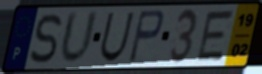3: (168, 6, 200, 66)
E: (193, 8, 237, 63)
P: (126, 8, 166, 65)
S: (28, 12, 64, 65)
U: (58, 8, 100, 67), (98, 10, 137, 64)
